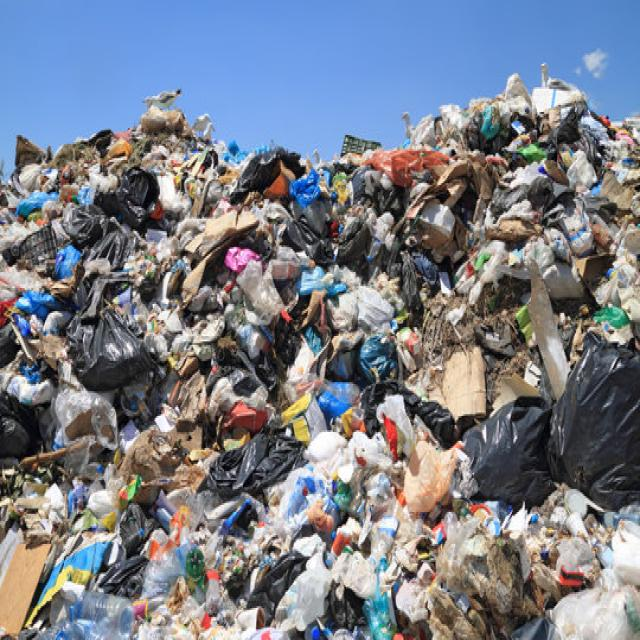plastic: (68, 590, 130, 640)
trash: (22, 150, 610, 438), (263, 480, 506, 635)
